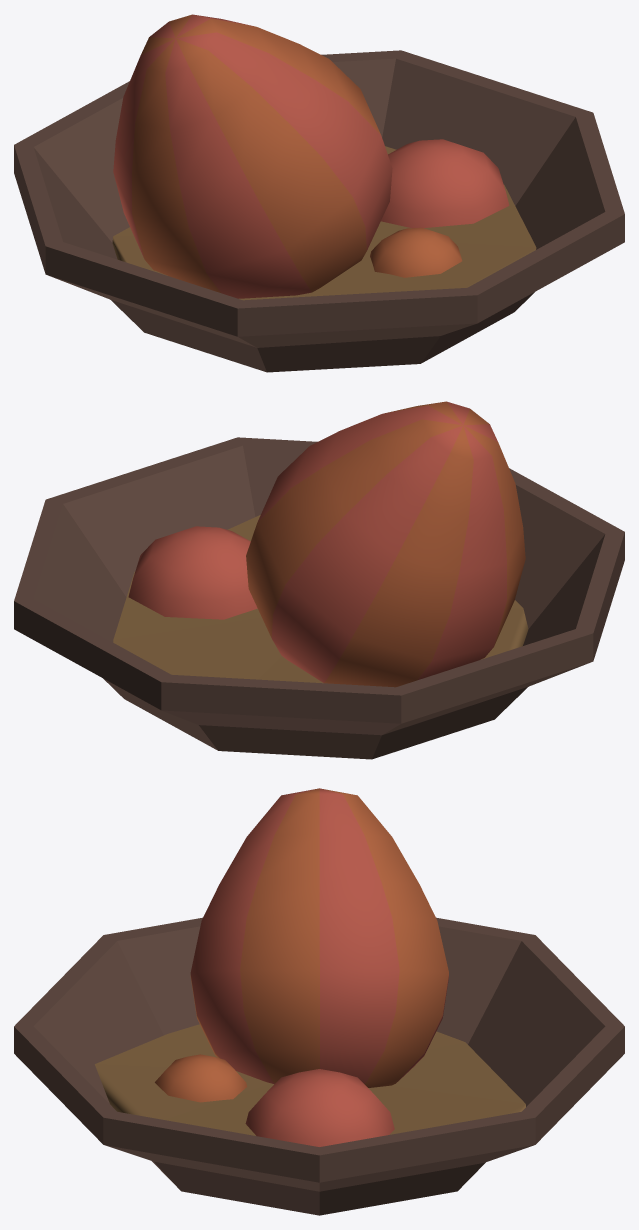
The model's file is Devilled_Eggs.fbx.
The picture shows the model from 3 angles, top to bottom: view 1: azimuth 30°, elevation 25°; view 2: azimuth 150°, elevation 25°; view 3: azimuth 270°, elevation 25°; orthographic projection. The views are drawn at different scales.
Parts seen in each view (by area): view 1: Devilled_Eggs; view 2: Devilled_Eggs; view 3: Devilled_Eggs.
Boxes of the visible parts, bbox=[...] form: Devilled_Eggs: bbox=[14, 14, 624, 372]; Devilled_Eggs: bbox=[14, 401, 624, 759]; Devilled_Eggs: bbox=[14, 788, 624, 1215].
Size of the model in its own units: 0.7315 by 0.3801 by 0.7315.
